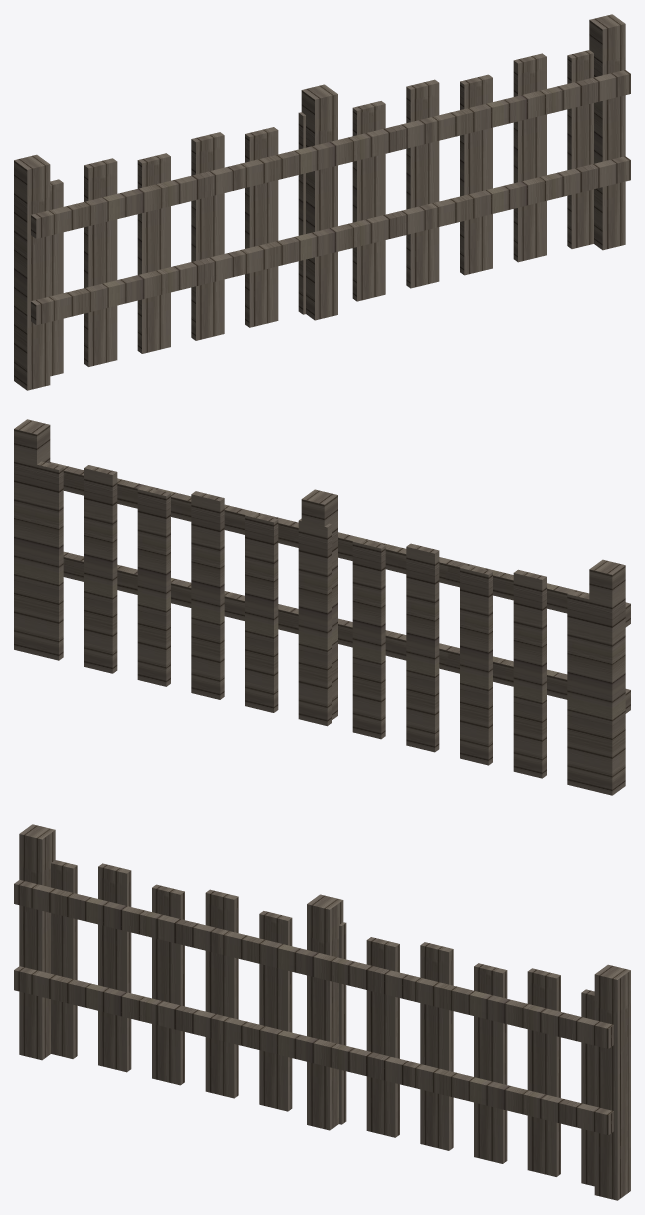
Rendered from wood_fence_01.glb.
3 views of the same model, one above another, from view 1: azimuth 30°, elevation 25°; view 2: azimuth 150°, elevation 25°; view 3: azimuth 330°, elevation 25° (orthographic).
Parts seen in each view (by area): view 1: wood_fence_01; view 2: wood_fence_01; view 3: wood_fence_01.
Boxes of the visible parts, x1,y1,x2,y2 form: wood_fence_01: (14,14,630,390); wood_fence_01: (14,419,630,795); wood_fence_01: (14,824,630,1200).
Bounding box in the file's own units: 3.12 × 1.1 × 0.185.
Materials: 1 (1 with a texture image).
